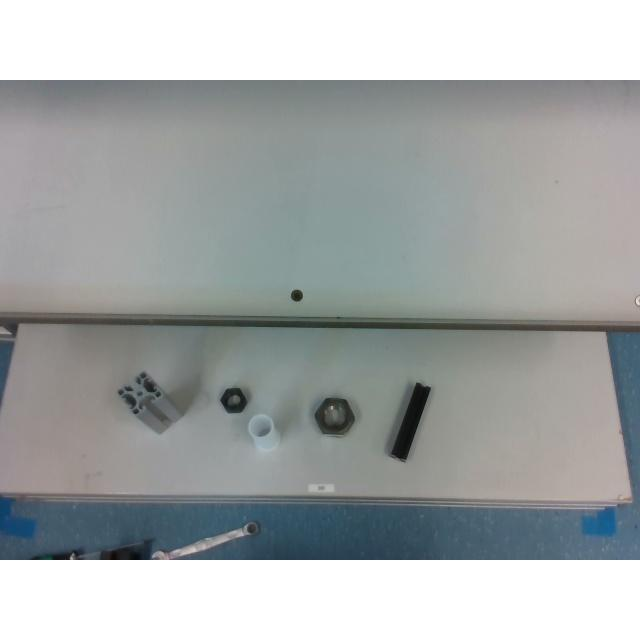F20_20_B: (390, 382, 430, 462)
M20: (222, 388, 246, 412)
M30: (314, 398, 354, 434)
S40_40_G: (118, 371, 182, 433)
Spacer: (248, 413, 280, 451)
